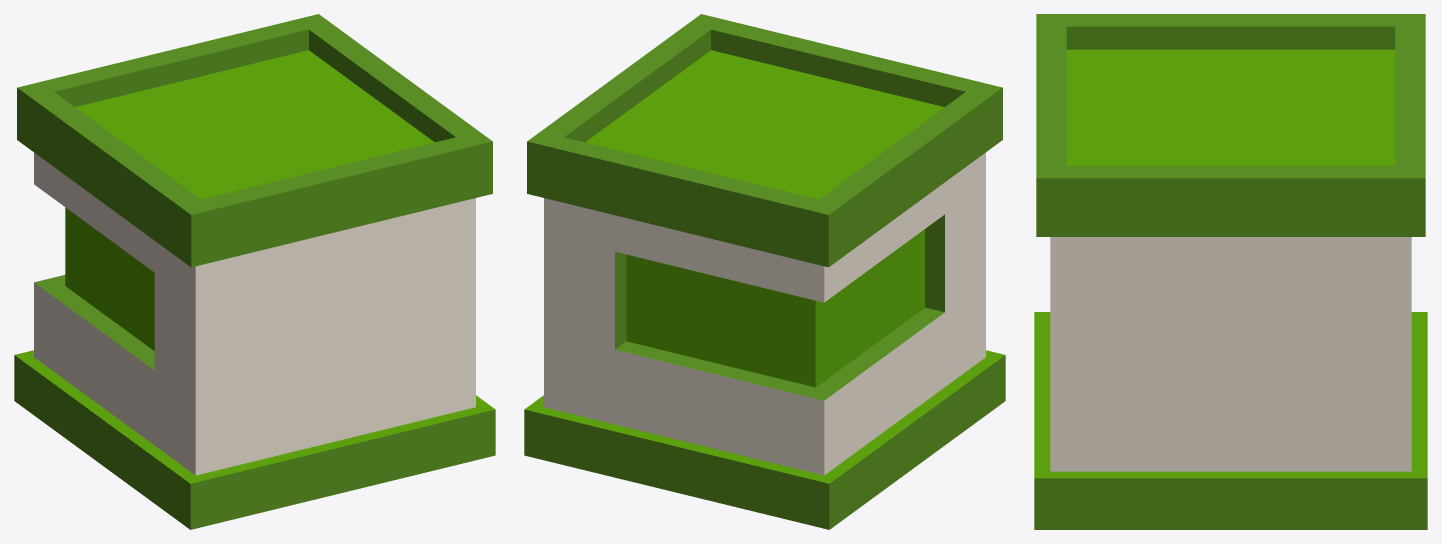
Rendered from Map-House-S-Lv1-G.fbx.
3 renders of one model, left to right at view 1: azimuth 30°, elevation 25°; view 2: azimuth 150°, elevation 25°; view 3: azimuth 270°, elevation 25°, orthographic. The views are drawn at different scales.
Visible parts, largest first — view 1: Map-House-S-Lv1-G; view 2: Map-House-S-Lv1-G; view 3: Map-House-S-Lv1-G.
Part boxes in pixels (x1,y1,x2,y2): Map-House-S-Lv1-G: (14, 14, 495, 529); Map-House-S-Lv1-G: (524, 14, 1005, 529); Map-House-S-Lv1-G: (1034, 14, 1427, 529).
Bounding box in the file's own units: 1.11 × 1.09 × 1.11.
